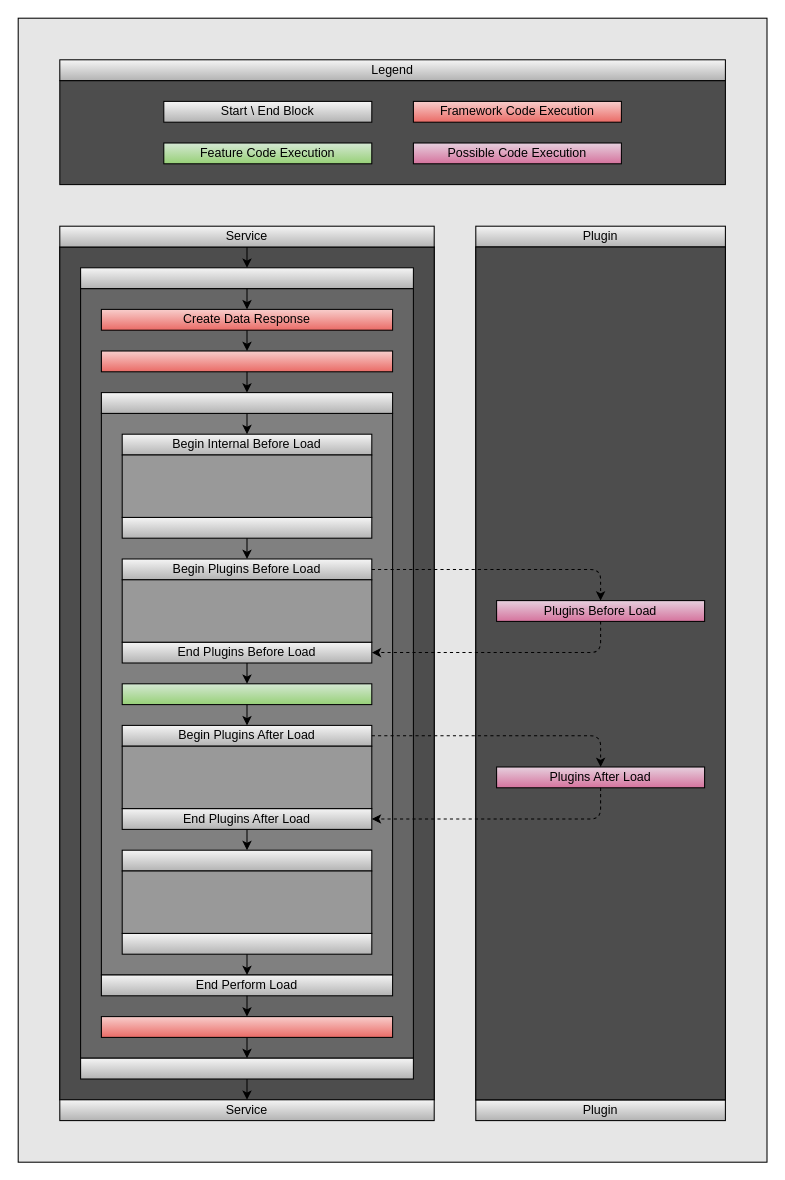
Some shapes in this 785 by 1180 pixel diagram are drawn without their labels. The shapes that lost their labels are listed below. From the top down, each one's box as (x1, y1, x2, y2) in pixels, then its label:
(80, 267, 413, 289): Begin Load
(100, 350, 393, 372): Open Database Connection
(100, 392, 393, 413): Begin Perform Load
(121, 516, 372, 538): End Internal Before Load
(121, 683, 372, 705): On Load
(121, 849, 372, 871): Begin Internal After Load
(121, 932, 372, 954): End Internal After Load
(100, 1016, 393, 1037): Close Database Connection
(80, 1057, 413, 1079): End Load
